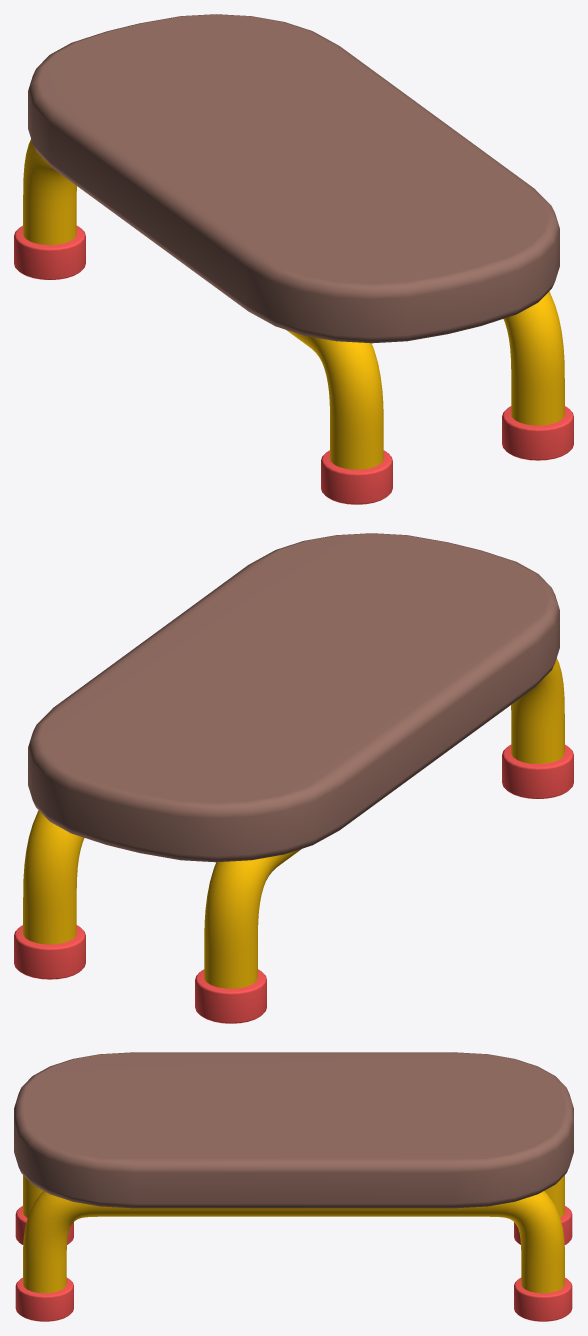
Rendered from City_18_Sports_Bench_1.glb.
The picture shows the model from 3 angles, top to bottom: view 1: azimuth 30°, elevation 25°; view 2: azimuth 150°, elevation 25°; view 3: azimuth 270°, elevation 25°; orthographic projection. The views are drawn at different scales.
Parts seen in each view (by area): view 1: City_18_Sports_Bench_1; view 2: City_18_Sports_Bench_1; view 3: City_18_Sports_Bench_1.
Part boxes in pixels (left/top/right/bottom): City_18_Sports_Bench_1: left=14, top=14, right=573, bottom=504; City_18_Sports_Bench_1: left=14, top=533, right=573, bottom=1023; City_18_Sports_Bench_1: left=14, top=1052, right=573, bottom=1321.
Bounding box in the file's own units: 0.6929 × 0.4686 × 1.42.
Materials: 1 (1 with a texture image).
